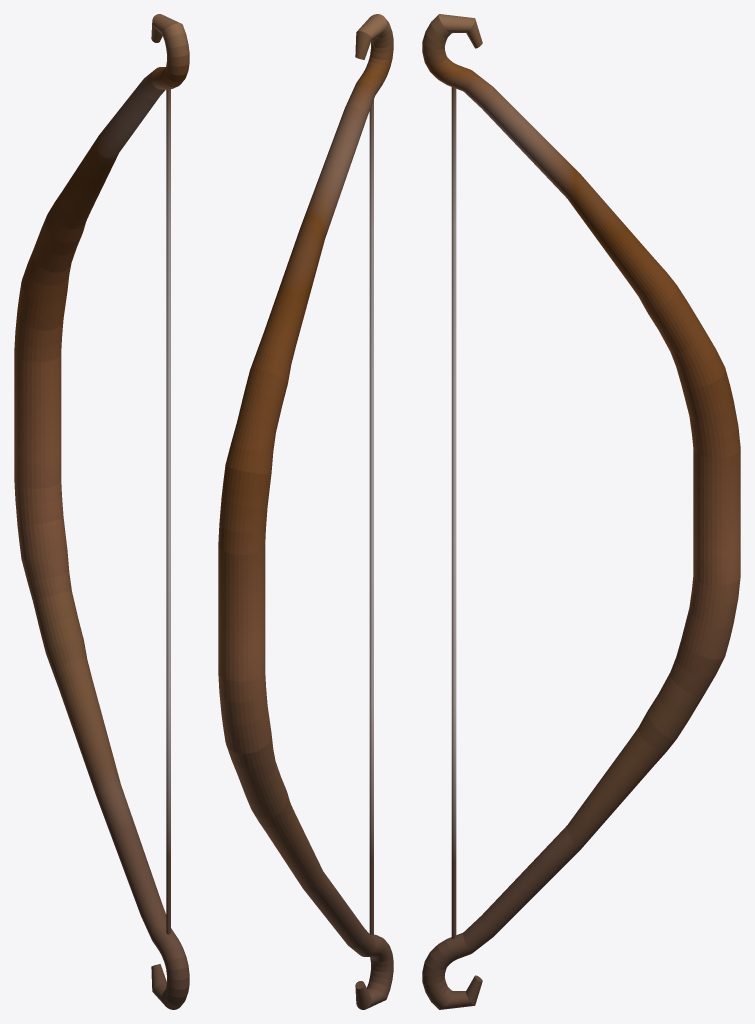
The model's file is BOW.glb.
3 renders of one model, left to right at view 1: azimuth 30°, elevation 25°; view 2: azimuth 150°, elevation 25°; view 3: azimuth 270°, elevation 25°, orthographic.
Visible parts, largest first — view 1: Cylinder; view 2: Cylinder; view 3: Cylinder.
Part boxes in pixels (x1,y1,x2,y2): Cylinder: (14, 14, 189, 1009); Cylinder: (218, 14, 393, 1009); Cylinder: (422, 14, 740, 1009).
Bounding box in the file's own units: 0.0734 × 1.7 × 0.493.
1 material, 1 textured.
